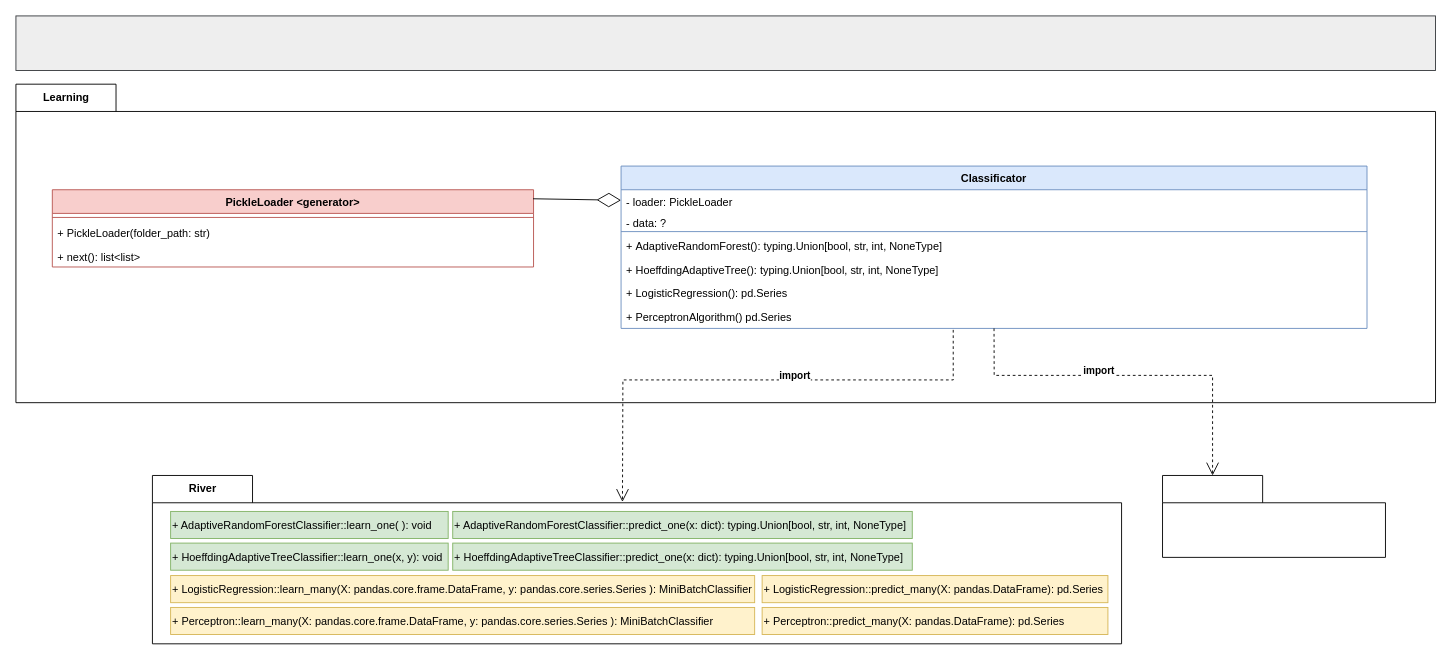
Some shapes in this 1451 by 660 pixel diagram are drawn without their labels. The shapes that lost their labels are listed below. From the top down, each one's centre as x and y in pixels, then its label:
pixel 725 43: DIAGRAMMA DELLE CLASSI /2
pixel 1273 516: Pandas
